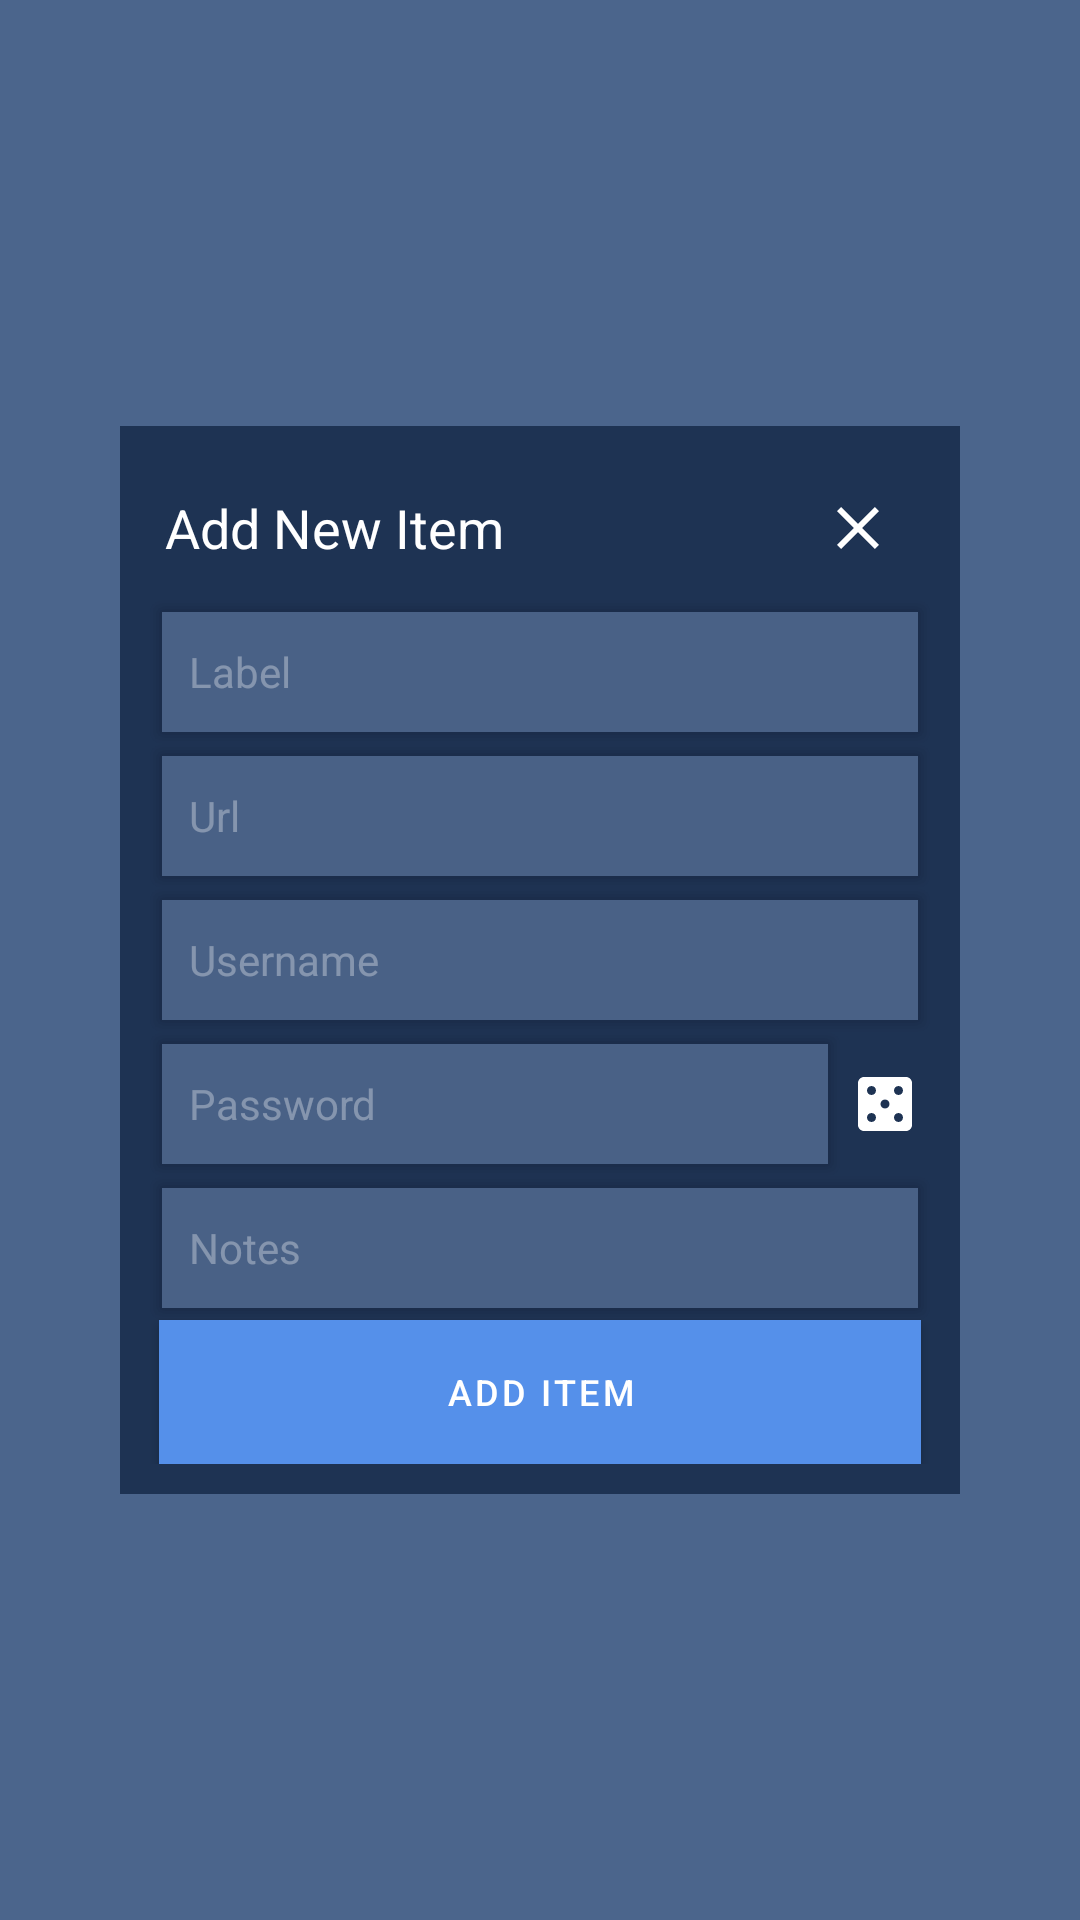

Where to tap for icons on this 1080 x 1920 app screen, as (x,y):
Close Popup: (858,528)
dice: (885,1104)
